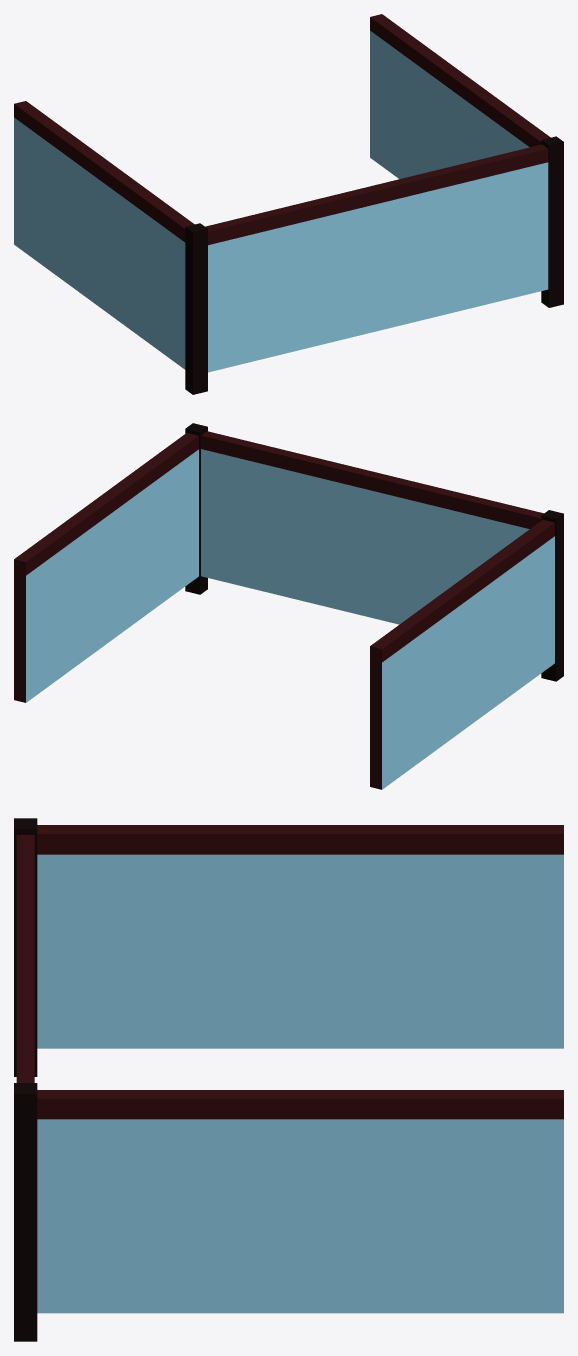
File: Prop_Balcony_Rails.FBX
The picture shows the model from 3 angles, top to bottom: view 1: azimuth 30°, elevation 25°; view 2: azimuth 150°, elevation 25°; view 3: azimuth 270°, elevation 25°; orthographic projection. The views are drawn at different scales.
Parts seen in each view (by area): view 1: Box161; view 2: Box161; view 3: Box161.
Boxes of the visible parts, x1,y1,x2,y2 form: Box161: (14, 14, 563, 394); Box161: (14, 423, 563, 789); Box161: (14, 818, 563, 1341).
Bounding box in the file's own units: 280 × 117 × 236.
